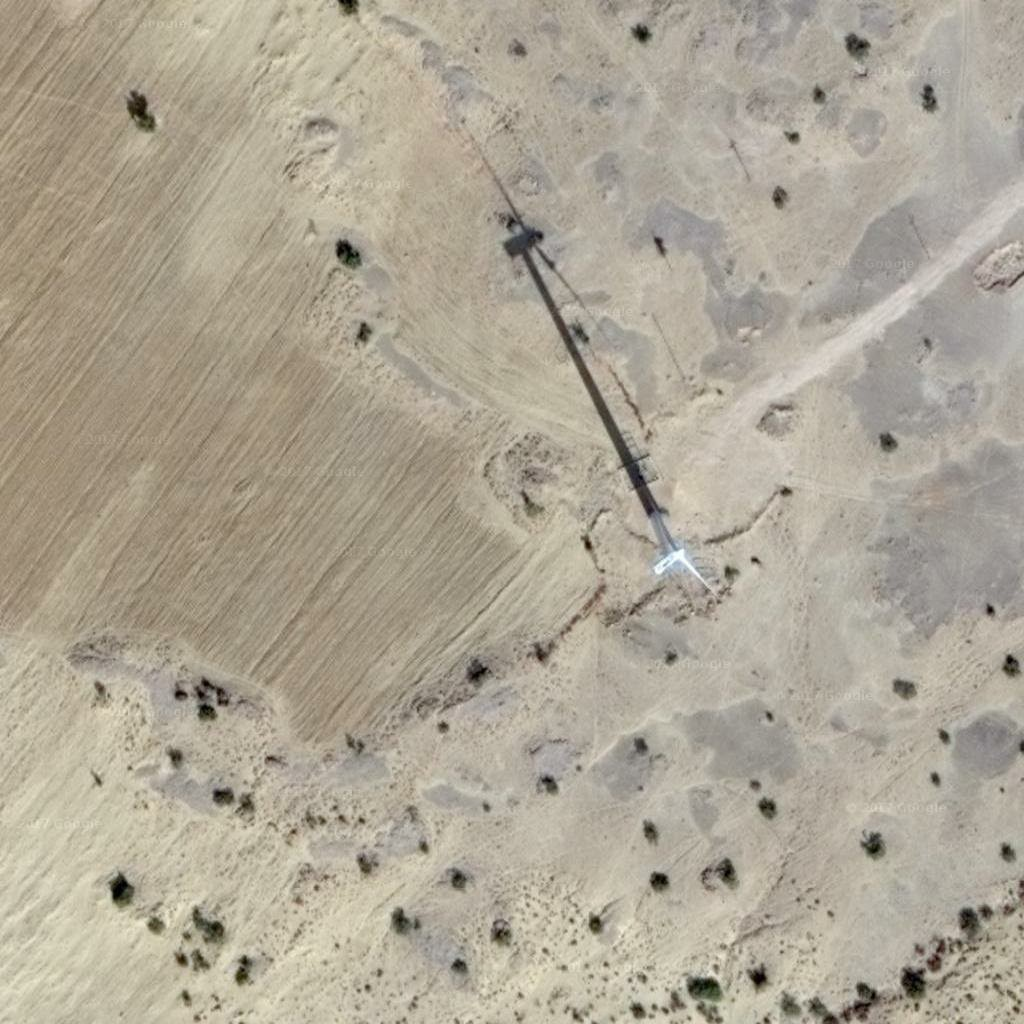Windmill: (445, 148, 699, 527)
